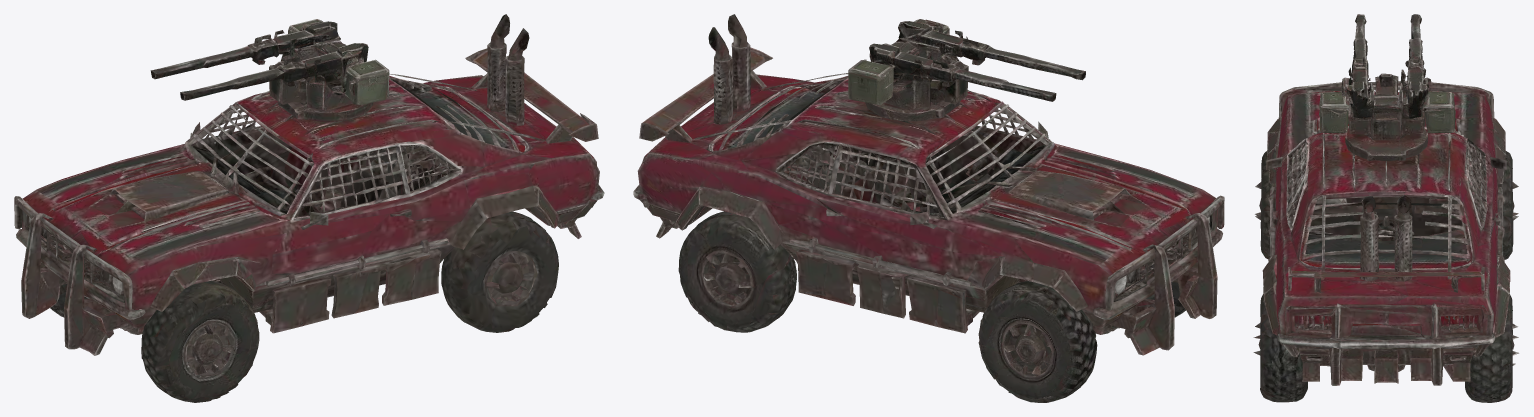
File: hellcat-ai.glb
3 renders of one model, left to right at view 1: azimuth 30°, elevation 25°; view 2: azimuth 150°, elevation 25°; view 3: azimuth 270°, elevation 25°, orthographic. The views are drawn at different scales.
Visible parts, largest first — view 1: Mesh_0; view 2: Mesh_0; view 3: Mesh_0.
Boxes of the visible parts, x1,y1,x2,y2 form: Mesh_0: (14, 14, 604, 402); Mesh_0: (633, 14, 1224, 402); Mesh_0: (1253, 14, 1518, 402).
Bounding box in the file's own units: 1.9 × 0.983 × 0.9057.
Materials: 1 (1 with a texture image).
